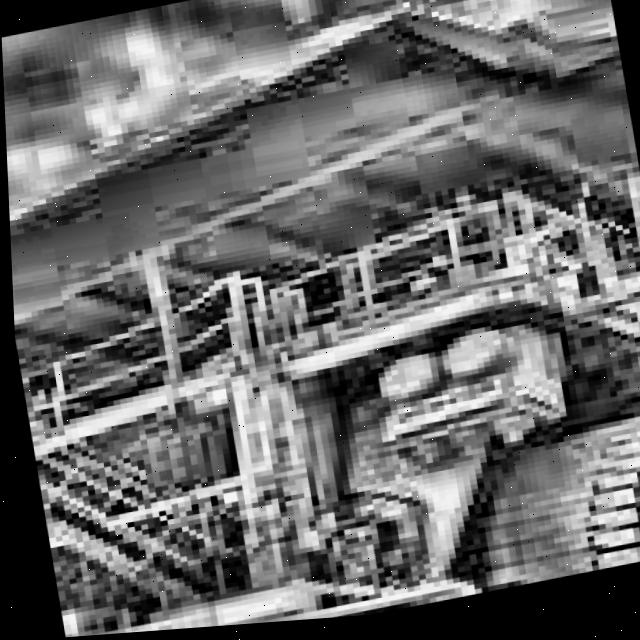dump_truck: (1, 0, 640, 640)
